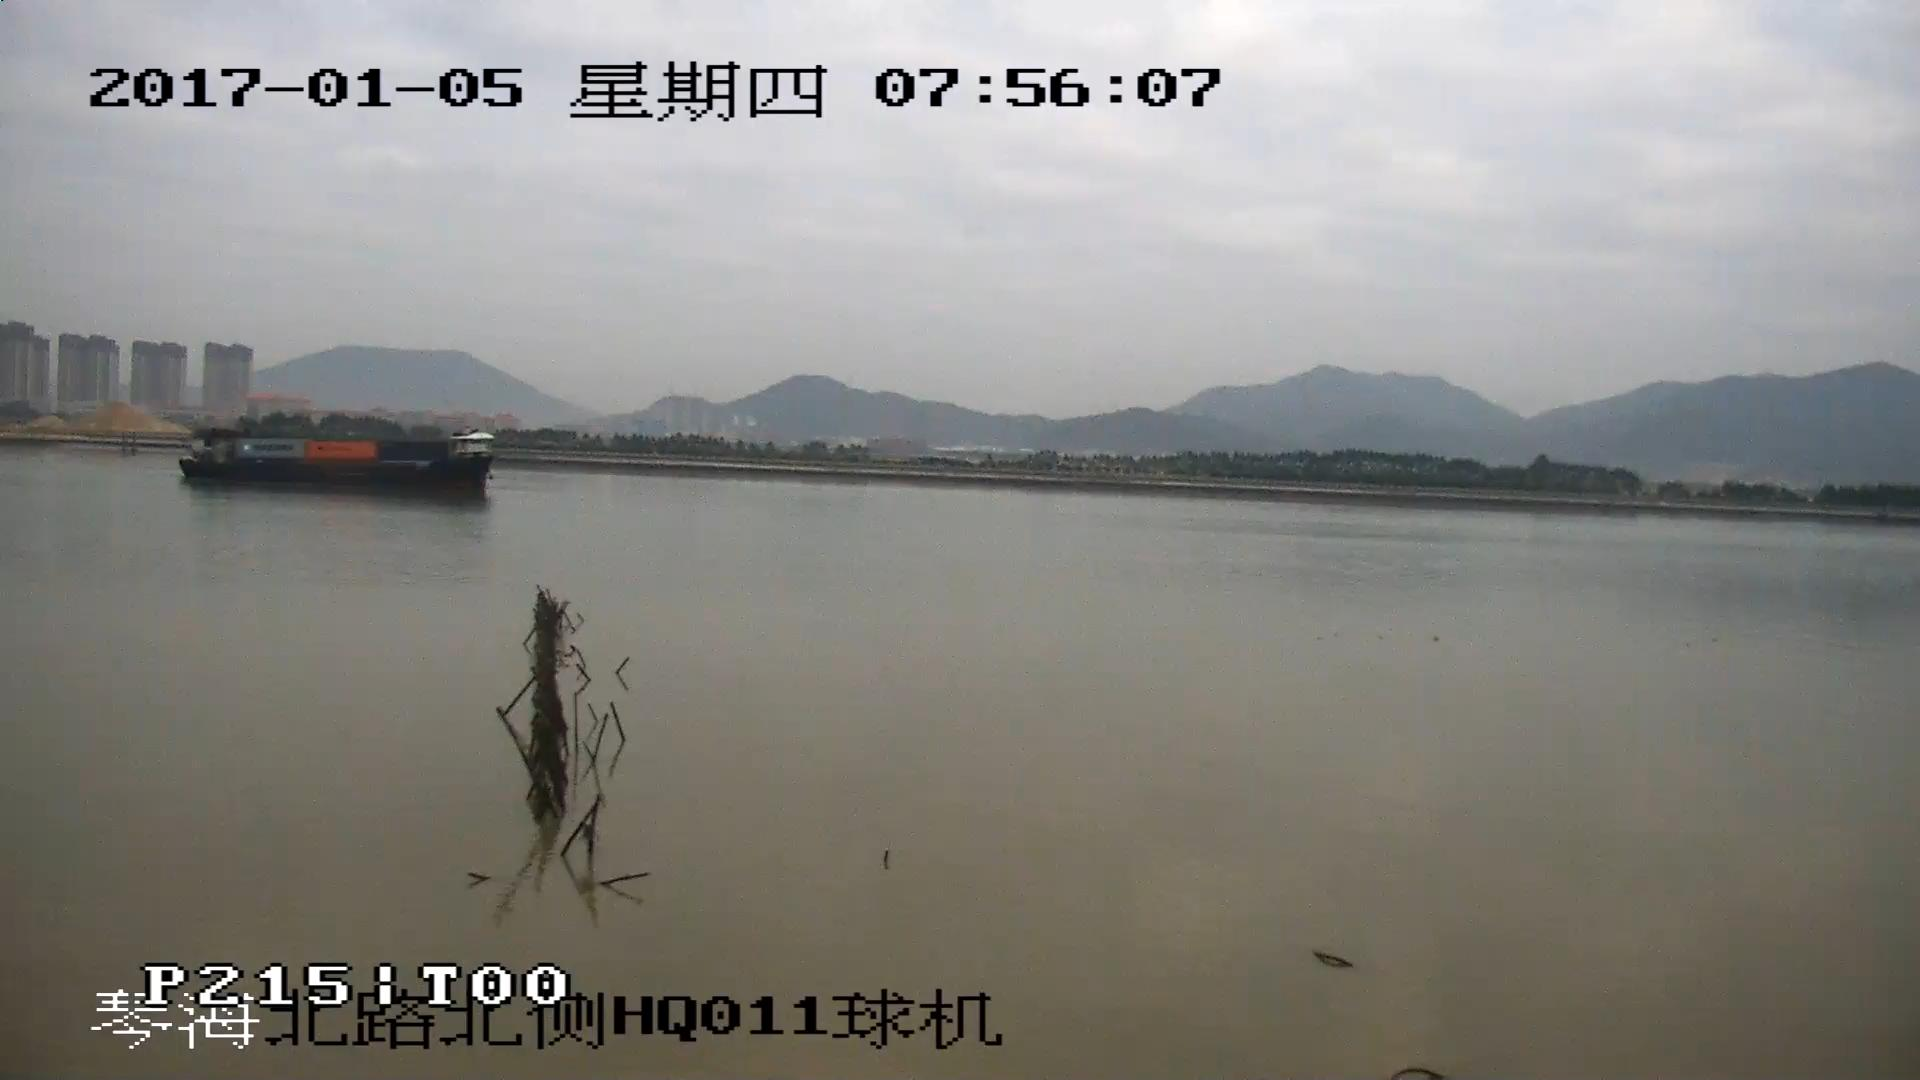container ship: (178, 434, 490, 495)
